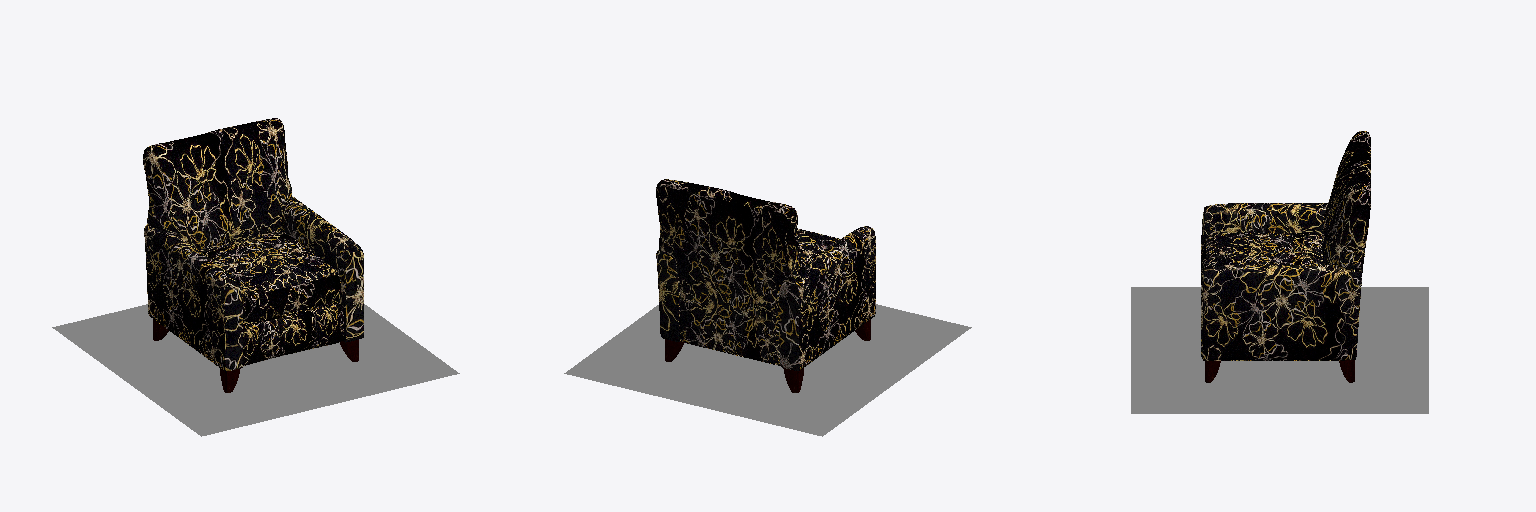
3 views of the same model, side by side, from view 1: azimuth 30°, elevation 25°; view 2: azimuth 150°, elevation 25°; view 3: azimuth 270°, elevation 25° (orthographic).
Parts seen in each view (by area): view 1: not_clear_obj_0_v6, shadow_plane_v6, not_clear_obj_1_v6; view 2: not_clear_obj_0_v6, shadow_plane_v6, not_clear_obj_1_v6; view 3: not_clear_obj_0_v6, shadow_plane_v6, not_clear_obj_1_v6.
Boxes of the visible parts, x1,y1,x2,y2 form: not_clear_obj_0_v6: [143, 118, 363, 371]; shadow_plane_v6: [52, 304, 459, 436]; not_clear_obj_1_v6: [153, 319, 358, 392]; not_clear_obj_0_v6: [656, 179, 875, 370]; shadow_plane_v6: [564, 304, 971, 436]; not_clear_obj_1_v6: [665, 319, 870, 392]; not_clear_obj_0_v6: [1201, 131, 1370, 360]; shadow_plane_v6: [1131, 287, 1428, 413]; not_clear_obj_1_v6: [1205, 360, 1354, 382].
Bounding box in the file's own units: 165 × 115 × 165.
3 materials, 1 textured.